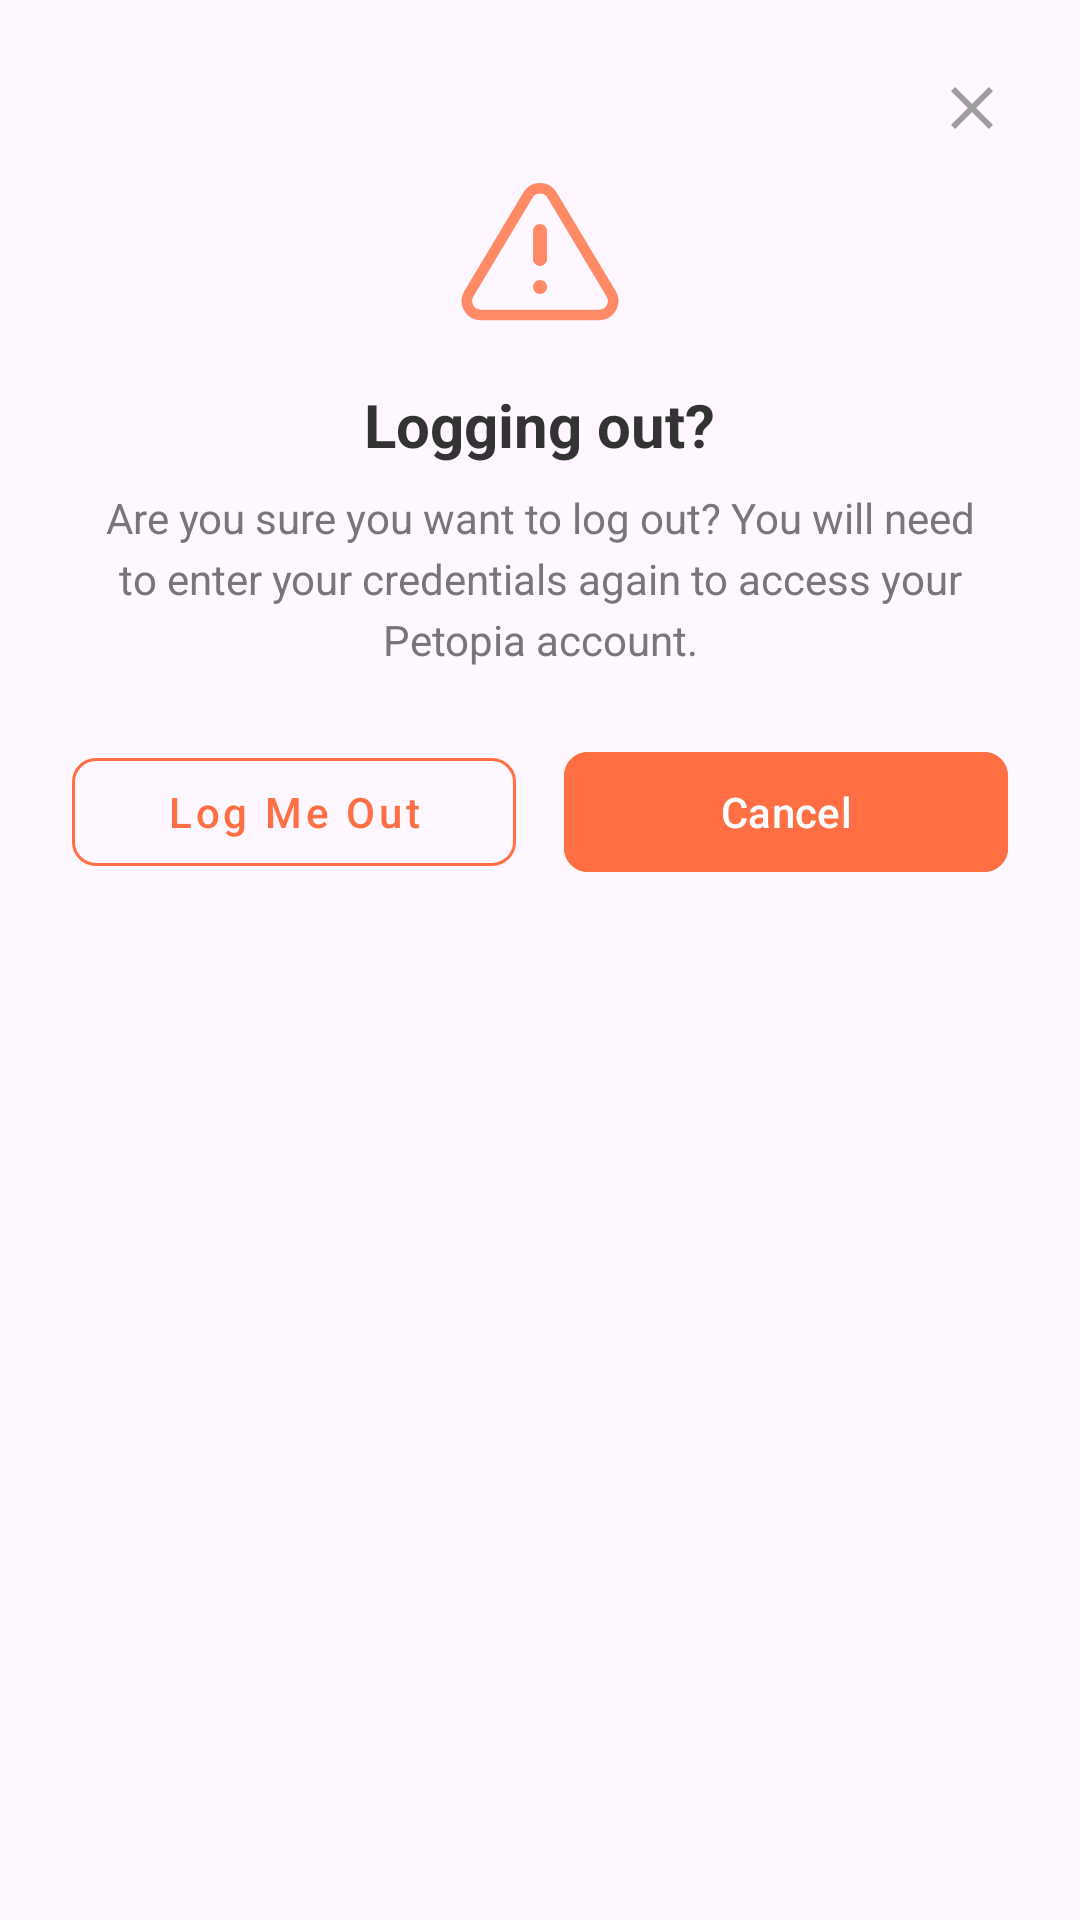

Where to tap for icons on this 1080×1920 app screen, as (x,y):
Close: (972,108)
Warning: (540,252)
